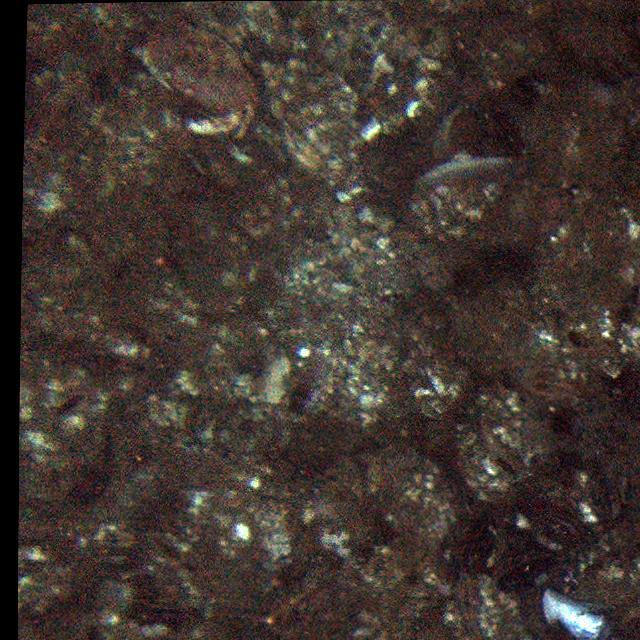crab: (126, 11, 260, 138)
